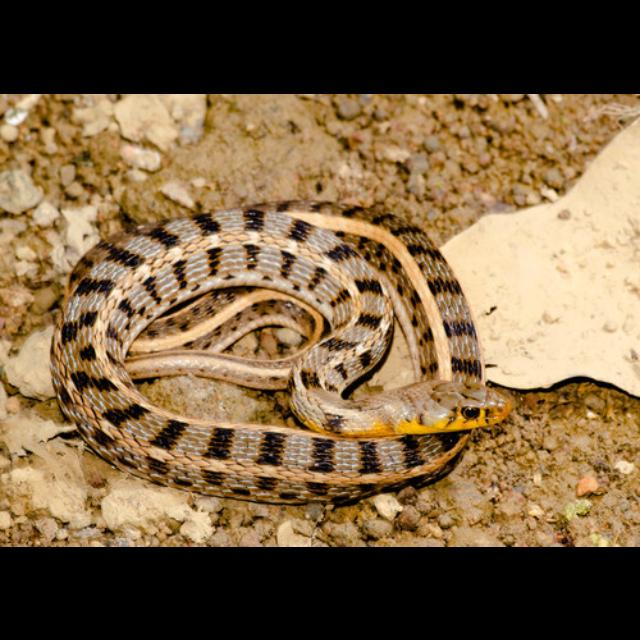snake: (51, 196, 515, 509)
